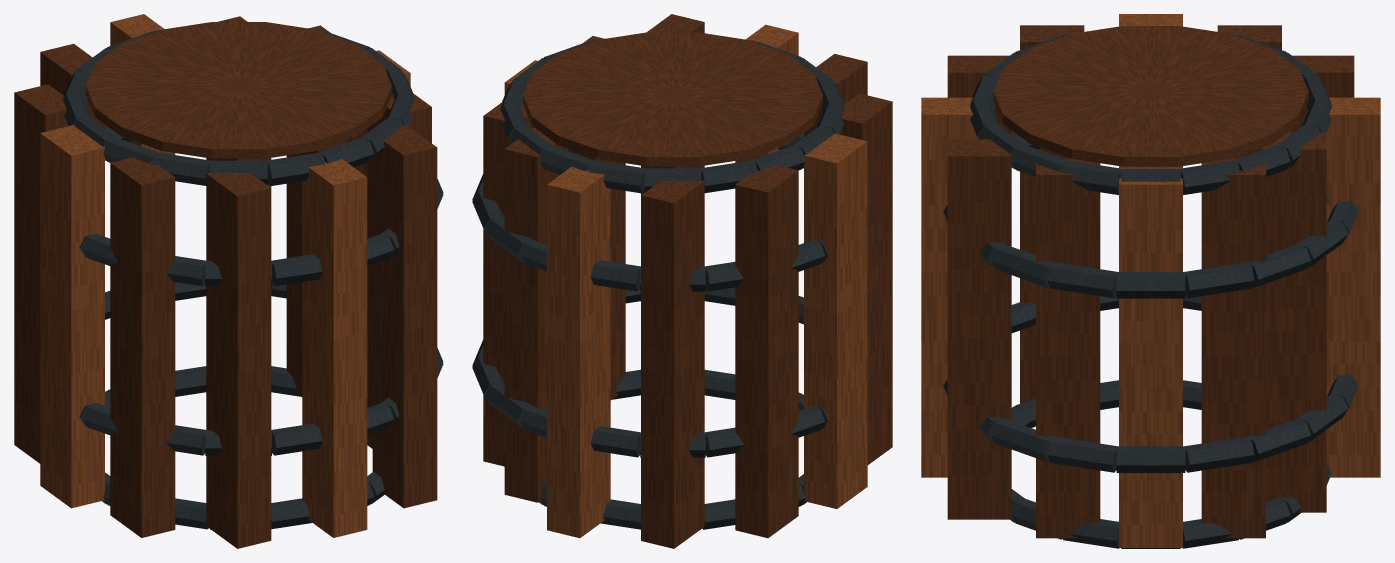
The model's file is SM_oak_barrel.gltf.
3 views of the same model, side by side, from view 1: azimuth 30°, elevation 25°; view 2: azimuth 150°, elevation 25°; view 3: azimuth 270°, elevation 25° (orthographic). The views are drawn at different scales.
Parts seen in each view (by area): view 1: root; view 2: root; view 3: root.
Part boxes in pixels (<box>): root: <box>14,14,443,548</box>; root: <box>472,14,892,548</box>; root: <box>921,14,1380,548</box>.
Bounding box in the file's own units: 0.7969 × 0.7917 × 0.86.
3 materials, 3 textured.
